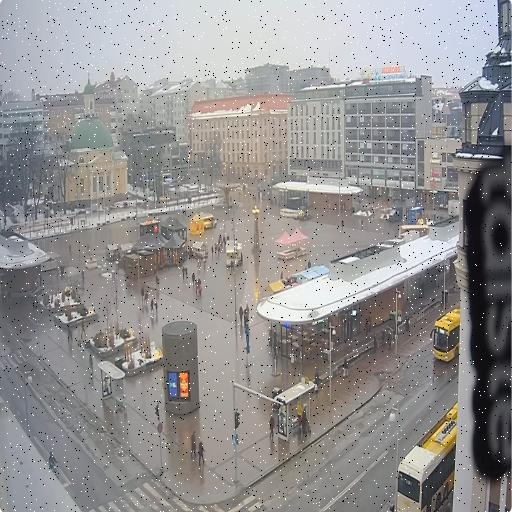Bus: (398, 402, 458, 511), (430, 308, 460, 361)
